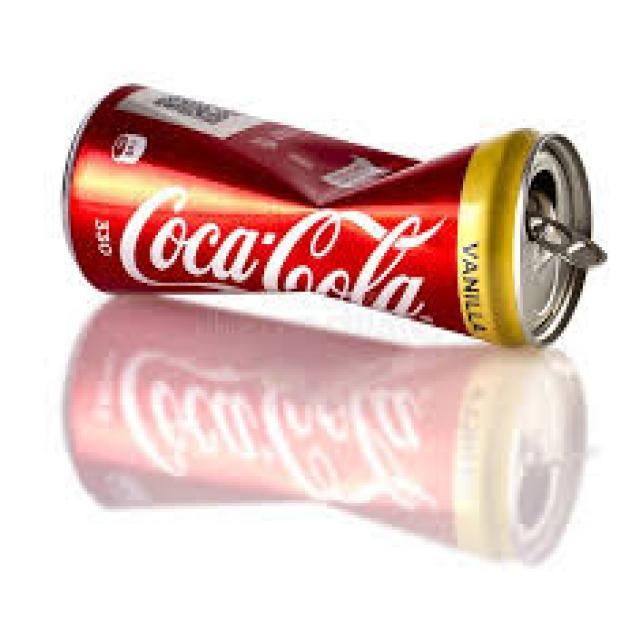recyclable: (54, 79, 608, 348)
